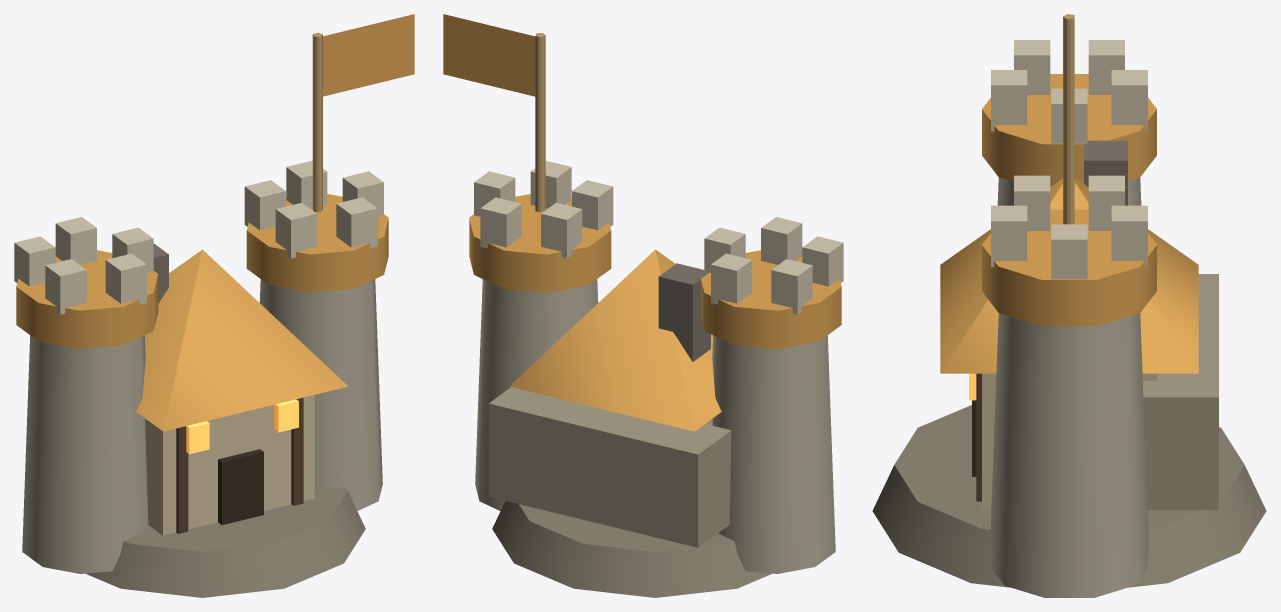
The model's file is city.glb.
3 views of the same model, side by side, from view 1: azimuth 30°, elevation 25°; view 2: azimuth 150°, elevation 25°; view 3: azimuth 270°, elevation 25° (orthographic). The views are drawn at different scales.
Parts seen in each view (by area): view 1: city; view 2: city; view 3: city.
Boxes of the visible parts, x1,y1,x2,y2 form: city: (14,14,414,597); city: (443,14,843,597); city: (872,14,1266,597).
Size of the model in its own units: 0.7391 by 0.85 by 0.54.
